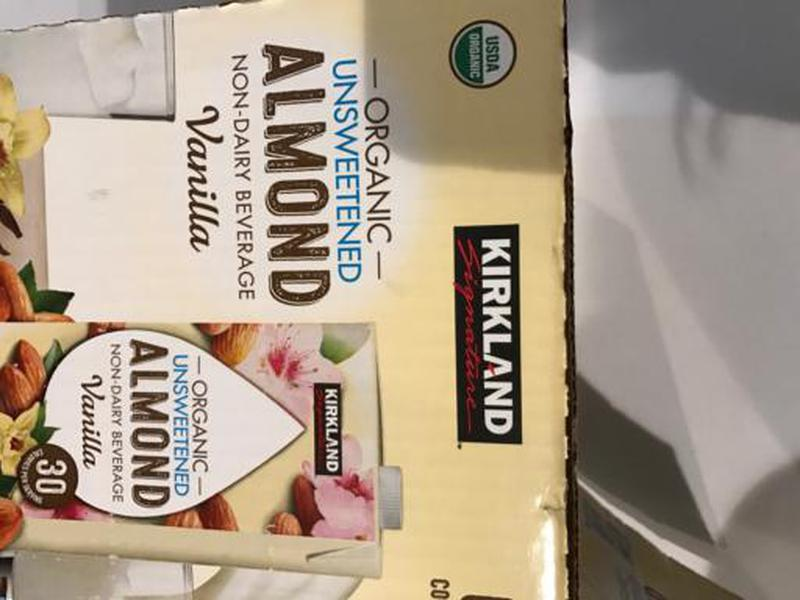cardboard: (1, 2, 605, 600)
